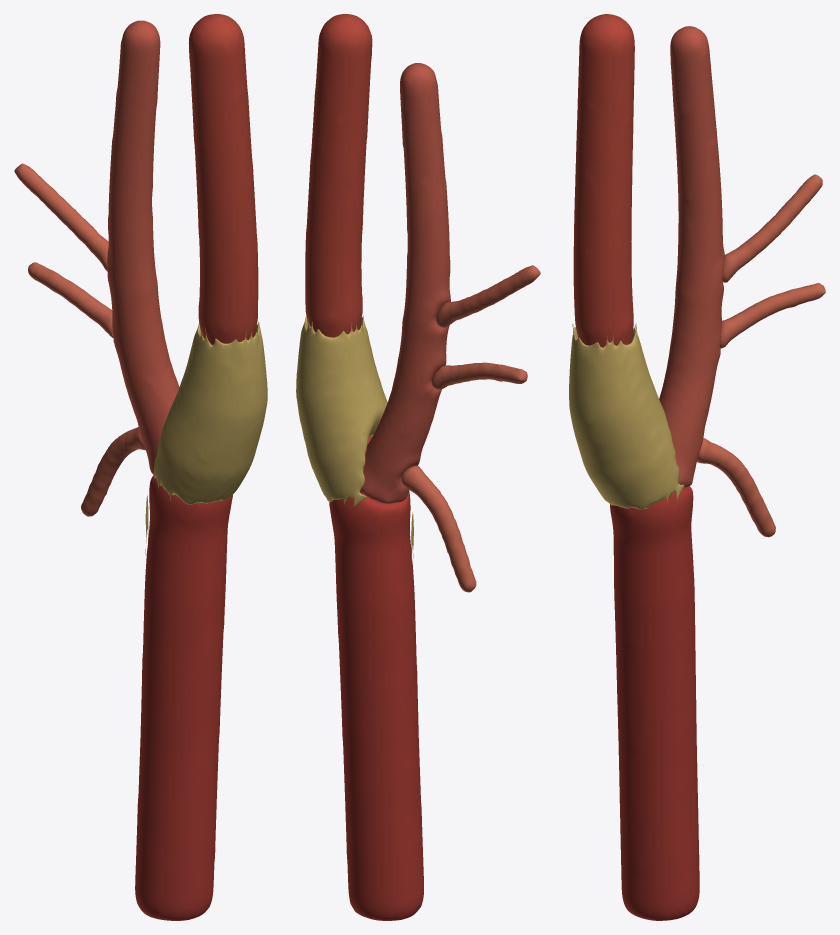
The model's file is carotid_stenosis_severe.glb.
3 views of the same model, side by side, from view 1: azimuth 30°, elevation 25°; view 2: azimuth 210°, elevation 25°; view 3: azimuth 270°, elevation 25° (orthographic). The views are drawn at different scales.
Visible parts, largest first — view 1: common_carotid, external_carotid, internal_carotid, plaque, eca_branches; view 2: common_carotid, external_carotid, internal_carotid, plaque, eca_branches; view 3: common_carotid, external_carotid, internal_carotid, plaque, eca_branches.
Part boxes in pixels (bbox=[...]): common_carotid: bbox=[135, 475, 232, 920]; external_carotid: bbox=[107, 20, 179, 474]; internal_carotid: bbox=[188, 14, 258, 344]; plaque: bbox=[145, 322, 267, 554]; eca_branches: bbox=[14, 163, 145, 516]; common_carotid: bbox=[329, 491, 423, 920]; external_carotid: bbox=[360, 63, 450, 503]; internal_carotid: bbox=[305, 14, 372, 492]; plaque: bbox=[296, 315, 413, 560]; eca_branches: bbox=[401, 265, 540, 592]; common_carotid: bbox=[610, 486, 699, 920]; external_carotid: bbox=[659, 26, 724, 487]; internal_carotid: bbox=[573, 14, 634, 347]; plaque: bbox=[569, 323, 684, 509]; eca_branches: bbox=[697, 174, 825, 537].
Bounding box in the file's own units: 2.91 × 17.66 × 4.56.
